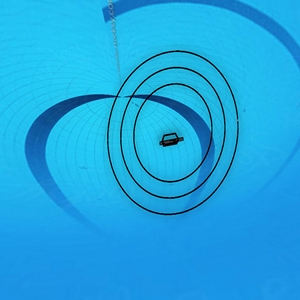circle: (106, 47, 243, 222)
submarine: (157, 132, 186, 150)
